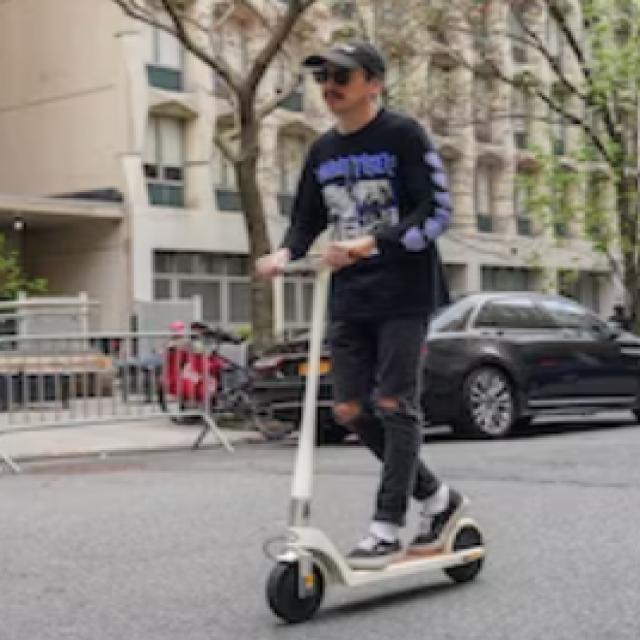non-helmet: (230, 36, 494, 632)
